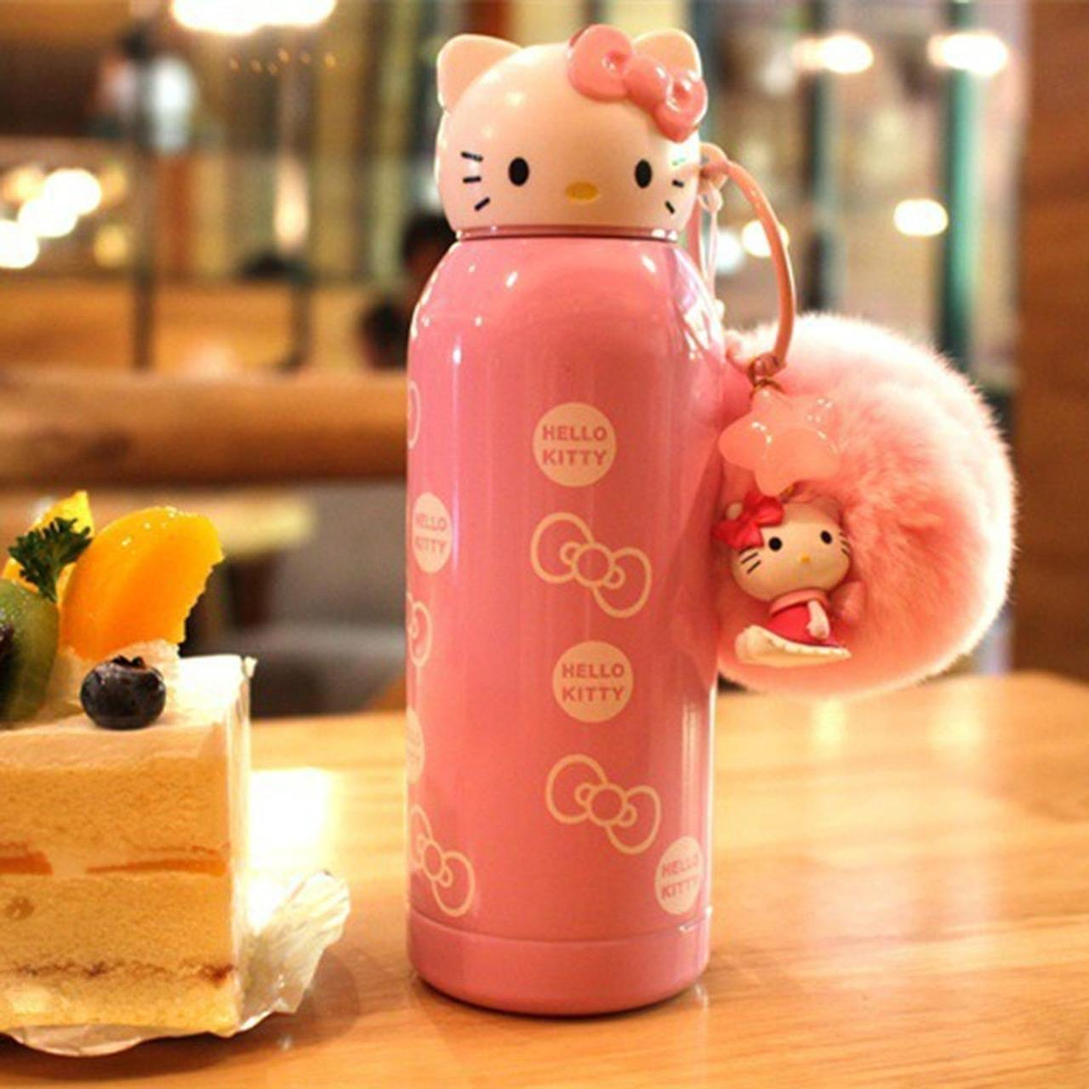gym bottle: (401, 21, 728, 1033)
